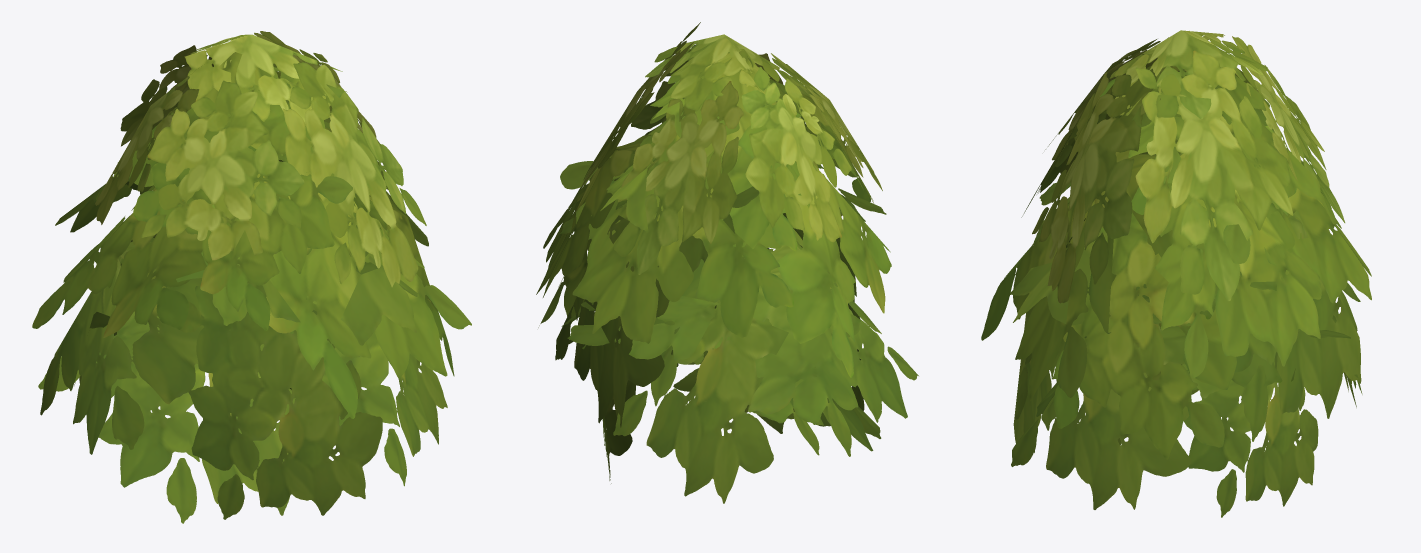
Rendered from Tyj_cdM_09.fbx.
3 views of the same model, side by side, from view 1: azimuth 30°, elevation 25°; view 2: azimuth 150°, elevation 25°; view 3: azimuth 270°, elevation 25° (orthographic). The views are drawn at different scales.
Parts seen in each view (by area): view 1: Tyj_cdM_09; view 2: Tyj_cdM_09; view 3: Tyj_cdM_09.
Part boxes in pixels (<box>): Tyj_cdM_09: <box>32,31,471,523</box>; Tyj_cdM_09: <box>536,22,918,503</box>; Tyj_cdM_09: <box>981,30,1371,517</box>.
Size of the model in its own units: 479 by 546 by 484.
